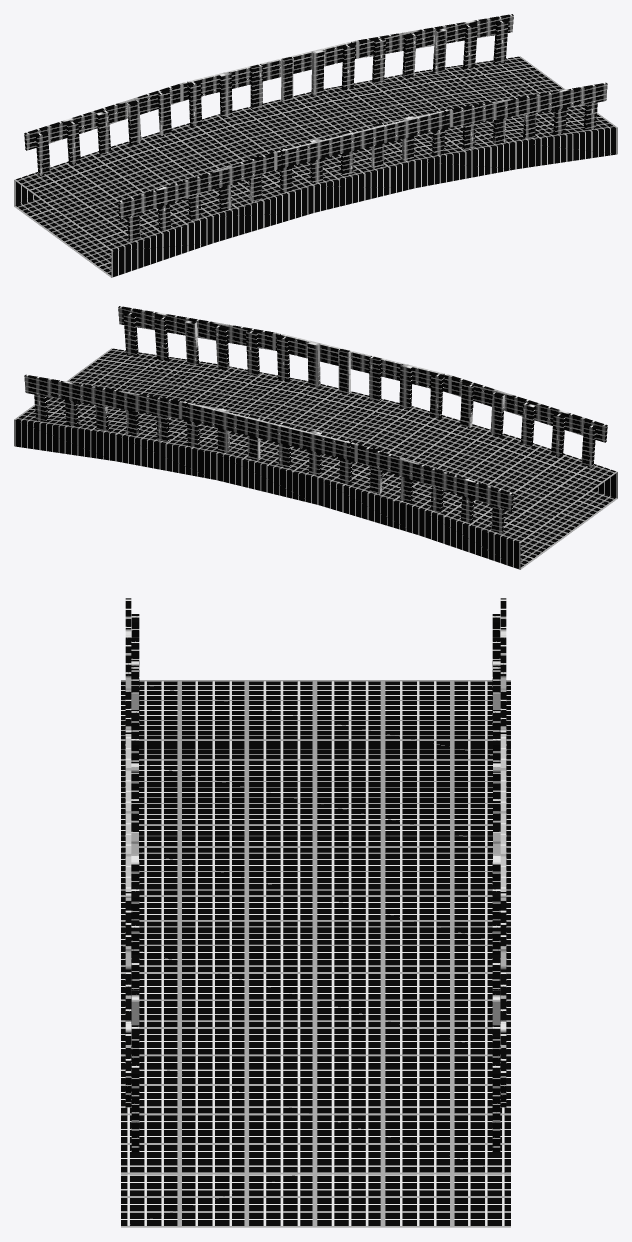
File: bridge.fbx
3 renders of one model, top to bottom at view 1: azimuth 30°, elevation 25°; view 2: azimuth 150°, elevation 25°; view 3: azimuth 270°, elevation 25°, orthographic. The views are drawn at different scales.
Visible parts, largest first — view 1: BridgeGround, BorderPlate, Border; view 2: BridgeGround, BorderPlate, Border; view 3: BridgeGround, Border, BorderPlate.
Part boxes in pixels (<box>): BridgeGround: <box>14,56,617,277</box>; BorderPlate: <box>24,14,607,219</box>; Border: <box>35,20,597,241</box>; BridgeGround: <box>14,348,617,569</box>; BorderPlate: <box>24,306,607,511</box>; Border: <box>34,312,596,533</box>; BridgeGround: <box>121,680,510,1227</box>; Border: <box>131,614,500,1151</box>; BorderPlate: <box>125,598,506,1107</box>.
Size of what is drawn, in the model's own units: 1500 by 500 by 240.
